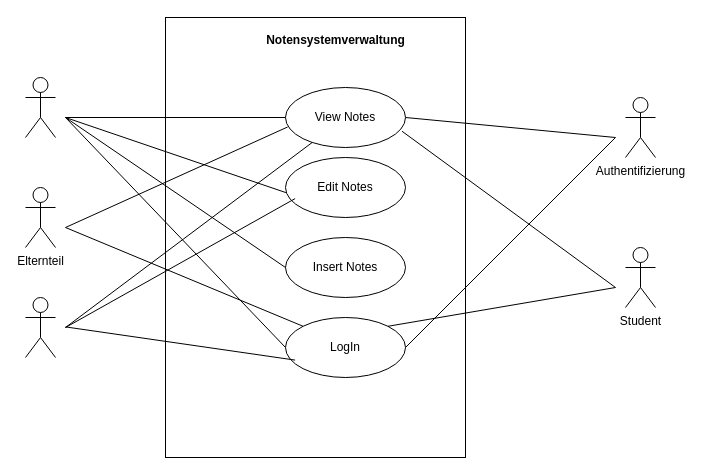
This 702x475 diagram has some shape labels left out. The box of each missing label's shape, as (x1, y1, x2, y2) in pixels:
Director: (24, 296, 56, 358)
Lehrer: (24, 76, 56, 138)
